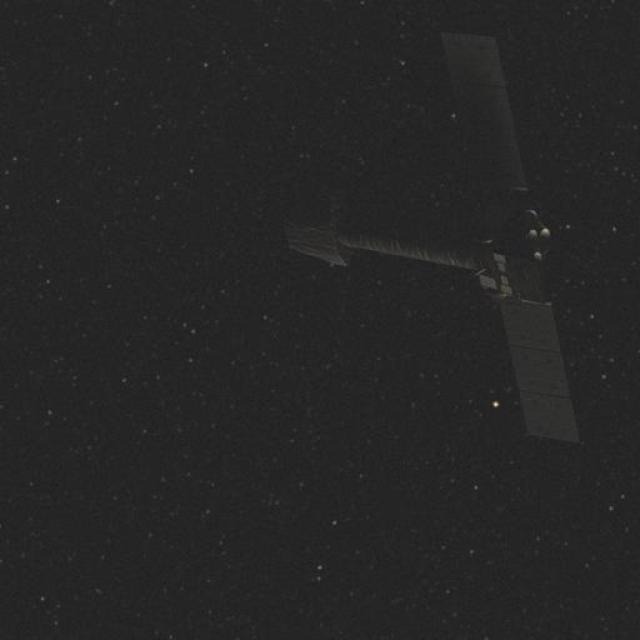xmm_newton: (296, 44, 569, 441)
